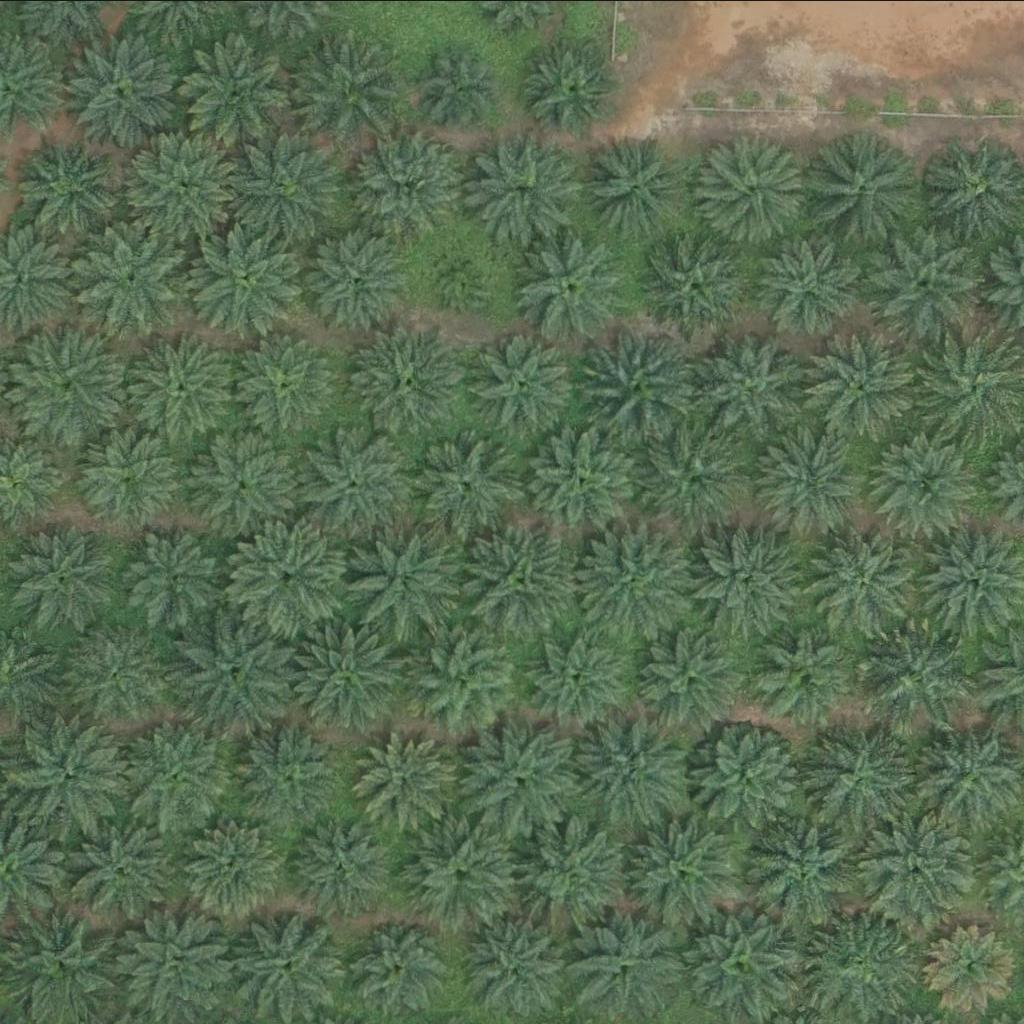Kelapa_Sawit: (348, 126, 462, 239), (189, 220, 303, 333), (405, 625, 519, 738), (463, 520, 577, 633), (581, 520, 695, 633), (637, 421, 751, 534), (752, 420, 866, 533), (129, 122, 242, 235), (224, 128, 337, 241), (80, 217, 193, 330), (13, 325, 126, 438), (232, 518, 345, 631), (344, 521, 457, 634), (62, 617, 175, 730), (181, 612, 294, 725), (293, 619, 406, 732), (15, 715, 128, 828), (117, 910, 230, 1023), (233, 910, 346, 1023), (571, 905, 684, 1018), (685, 905, 798, 1018), (626, 815, 739, 928), (752, 813, 865, 926), (862, 810, 975, 923), (694, 524, 807, 637), (812, 517, 925, 630), (871, 424, 984, 537), (515, 228, 628, 341), (637, 231, 750, 344), (472, 132, 585, 245), (576, 128, 689, 241), (699, 128, 812, 241), (811, 133, 924, 246), (127, 325, 241, 437), (8, 522, 122, 634), (527, 420, 641, 532), (692, 328, 806, 440), (809, 329, 923, 441), (870, 226, 984, 338), (66, 33, 179, 145), (178, 28, 291, 140), (285, 29, 398, 141), (353, 323, 466, 435), (190, 424, 303, 536), (300, 420, 413, 532), (121, 715, 234, 827), (234, 717, 347, 829), (63, 813, 176, 925), (11, 907, 124, 1019), (807, 905, 920, 1017), (404, 820, 517, 932), (520, 817, 633, 929), (464, 718, 577, 830), (576, 712, 689, 824), (688, 718, 801, 830), (801, 723, 914, 835), (631, 619, 744, 731), (861, 622, 974, 734), (409, 426, 522, 538), (585, 328, 698, 440), (17, 130, 118, 230), (353, 726, 454, 826), (185, 818, 286, 918), (291, 813, 392, 913), (754, 622, 855, 722), (474, 330, 575, 430), (306, 225, 406, 325), (237, 332, 337, 432), (83, 426, 183, 526), (127, 523, 227, 623), (532, 627, 632, 727), (757, 235, 857, 335), (528, 42, 617, 130), (927, 923, 1015, 1011), (428, 46, 504, 121), (431, 242, 494, 304)
